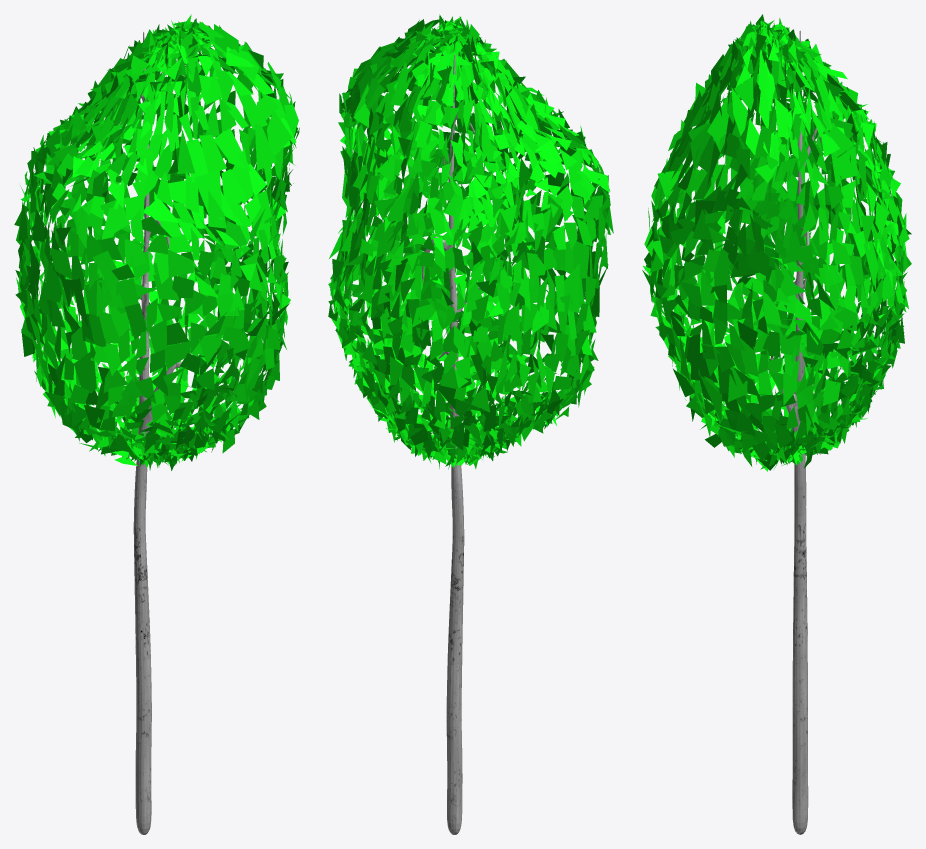
File: Leaves41.fbx
The picture shows the model from 3 angles, left to right: view 1: azimuth 30°, elevation 25°; view 2: azimuth 150°, elevation 25°; view 3: azimuth 270°, elevation 25°; orthographic projection. The views are drawn at different scales.
Visible parts, largest first — view 1: Leaves41; view 2: Leaves41; view 3: Leaves41.
Boxes of the visible parts, x1,y1,x2,y2 form: Leaves41: (14, 14, 299, 834); Leaves41: (328, 14, 613, 834); Leaves41: (642, 14, 911, 834).
Bounding box in the file's own units: 873 × 2643 × 783.
Materials: 2 (1 with a texture image).
